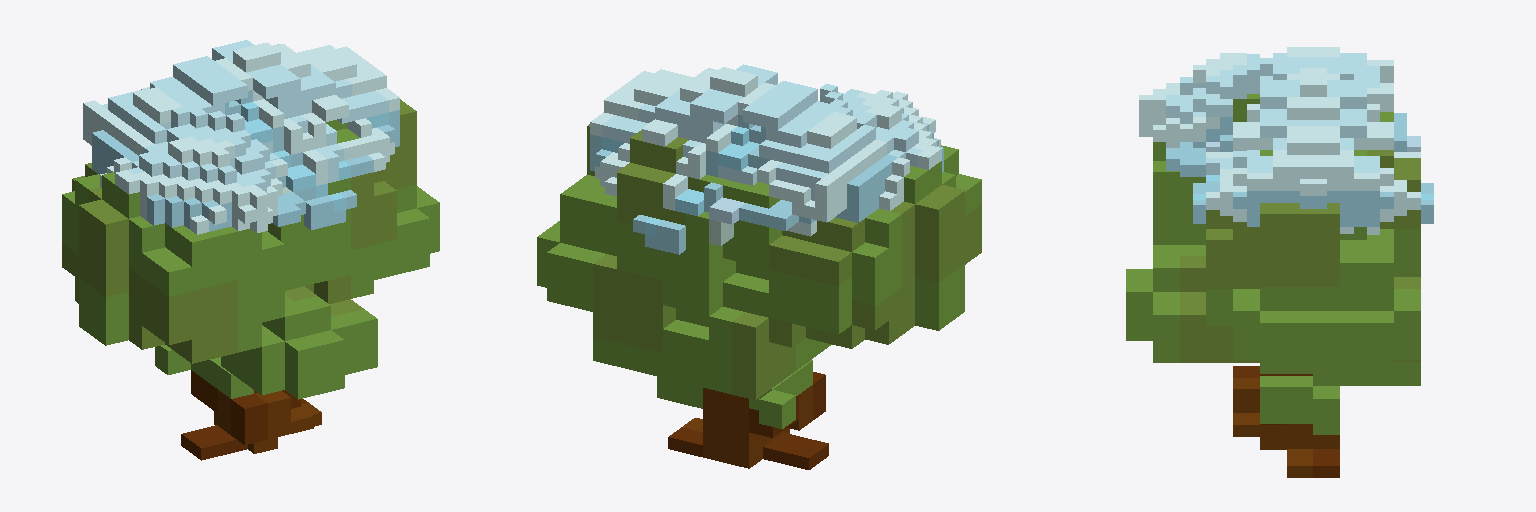
The picture shows the model from 3 angles: view 1: azimuth 30°, elevation 25°; view 2: azimuth 150°, elevation 25°; view 3: azimuth 270°, elevation 25°; orthographic projection.
Parts seen in each view (by area): view 1: object 1; view 2: object 1; view 3: object 1.
Boxes of the visible parts, x1=… form: object 1: x1=62, y1=40, x2=439, y2=460; object 1: x1=537, y1=64, x2=981, y2=469; object 1: x1=1126, y1=47, x2=1433, y2=477.
Bounding box in the file's own units: 3 × 3.1 × 2.3.
1 materials, 1 textured.